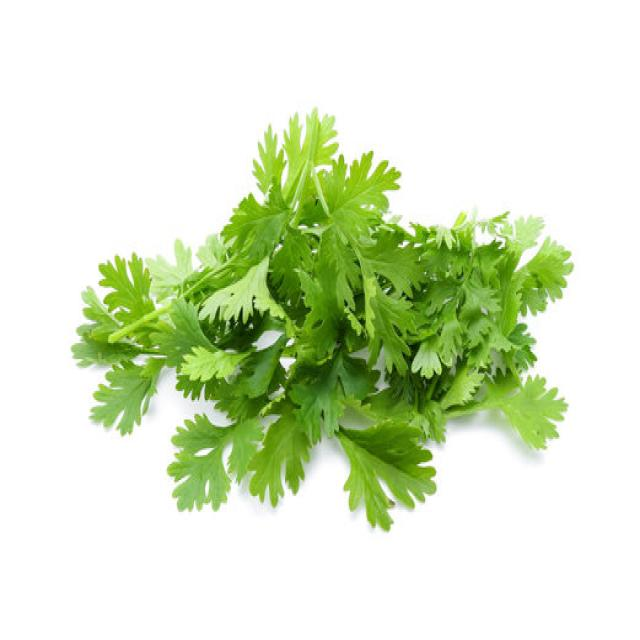Coriander Leaves: (70, 105, 574, 531)
